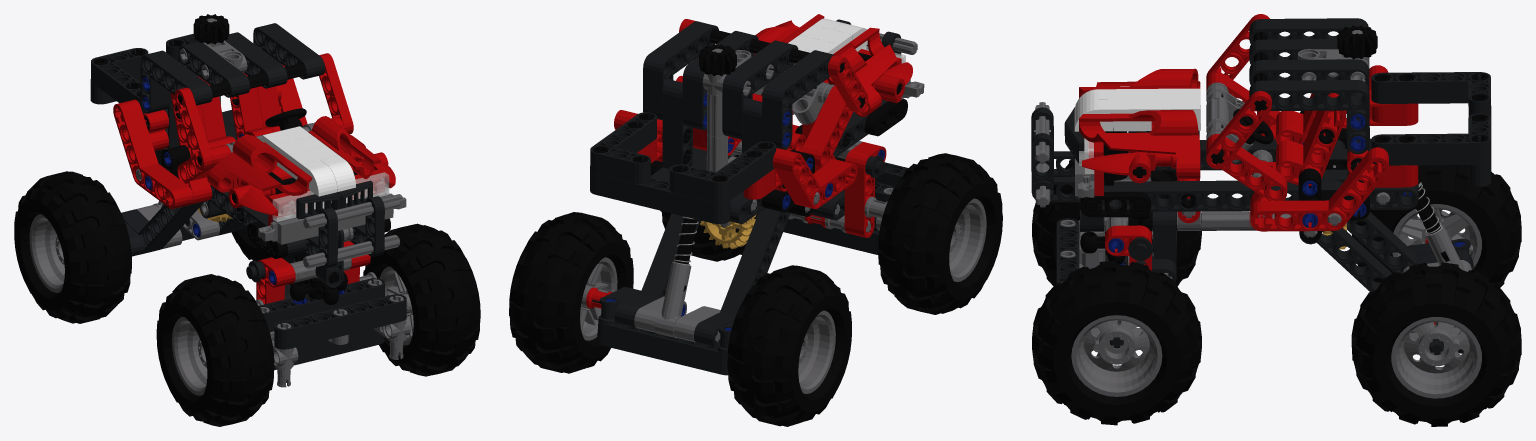
The model's file is Rally_Truck.dae.
3 renders of one model, left to right at view 1: azimuth 30°, elevation 25°; view 2: azimuth 150°, elevation 25°; view 3: azimuth 270°, elevation 25°, orthographic. The views are drawn at different scales.
Visible parts, largest first — view 1: Part_55976.147, Part_55976.149, Part_55976.144, Part_32524.163, Part_32348.135, Part_32527.138, Part_32526.114, Part_32524.167, Part_32526.107, Part_32526.113, Part_56145.150, Part_56145.148 (+47 smaller); view 2: Part_55976.149, Part_55976.147, Part_55976.145, Part_32271.5, Part_32524.57, Part_32526.107, Part_32526.114, Part_32524.112, Part_32526.113, Part_32526.77, Part_32526.106, Part_32348.135 (+36 smaller); view 3: Part_55976.145, Part_55976.144, Part_55976.147, Part_56145.143, Part_56145.146, Part_32528.133, Part_32348.140, Part_64290.29, Part_32526.113, Part_32526.107, Part_55976.149, Part_32526.106 (+45 smaller).
Part boxes in pixels (x1,y1,x2,y2): Part_55976.147: (14, 171, 131, 323); Part_55976.149: (156, 274, 274, 426); Part_55976.144: (363, 223, 480, 376); Part_32524.163: (274, 294, 406, 349); Part_32348.135: (113, 99, 193, 209); Part_32527.138: (207, 135, 312, 195); Part_32526.114: (140, 50, 212, 113); Part_32524.167: (258, 278, 384, 332); Part_32526.107: (90, 48, 148, 113); Part_32526.113: (253, 23, 325, 79); Part_56145.150: (172, 317, 207, 395); Part_56145.148: (29, 214, 64, 292); Part_55976.149: (878, 153, 1002, 314); Part_55976.147: (727, 265, 851, 426); Part_55976.145: (509, 212, 633, 373); Part_32271.5: (694, 208, 790, 347); Part_32524.57: (597, 321, 728, 375); Part_32526.107: (669, 141, 776, 203); Part_32526.114: (762, 50, 835, 149); Part_32524.112: (590, 170, 730, 224); Part_32526.113: (643, 21, 718, 120); Part_32526.77: (722, 40, 798, 139); Part_32526.106: (590, 112, 656, 183); Part_32348.135: (772, 148, 857, 208); Part_55976.145: (1351, 262, 1521, 426); Part_55976.144: (1032, 260, 1201, 425); Part_55976.147: (1351, 165, 1521, 287); Part_56145.143: (1071, 315, 1162, 396); Part_56145.146: (1391, 317, 1481, 398); Part_32528.133: (1079, 110, 1200, 178); Part_32348.140: (1250, 147, 1388, 231); Part_64290.29: (1080, 180, 1342, 211); Part_32526.113: (1249, 80, 1369, 154); Part_32526.107: (1371, 72, 1490, 117); Part_55976.149: (1032, 160, 1201, 286); Part_32526.106: (1371, 113, 1490, 165).
Bounding box in the file's own units: 114 × 121 × 161.
